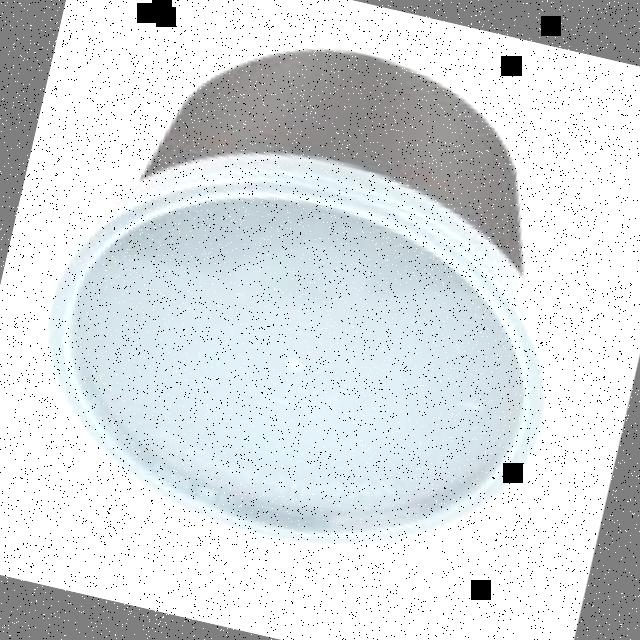plastic_box: (4, 0, 623, 597)
